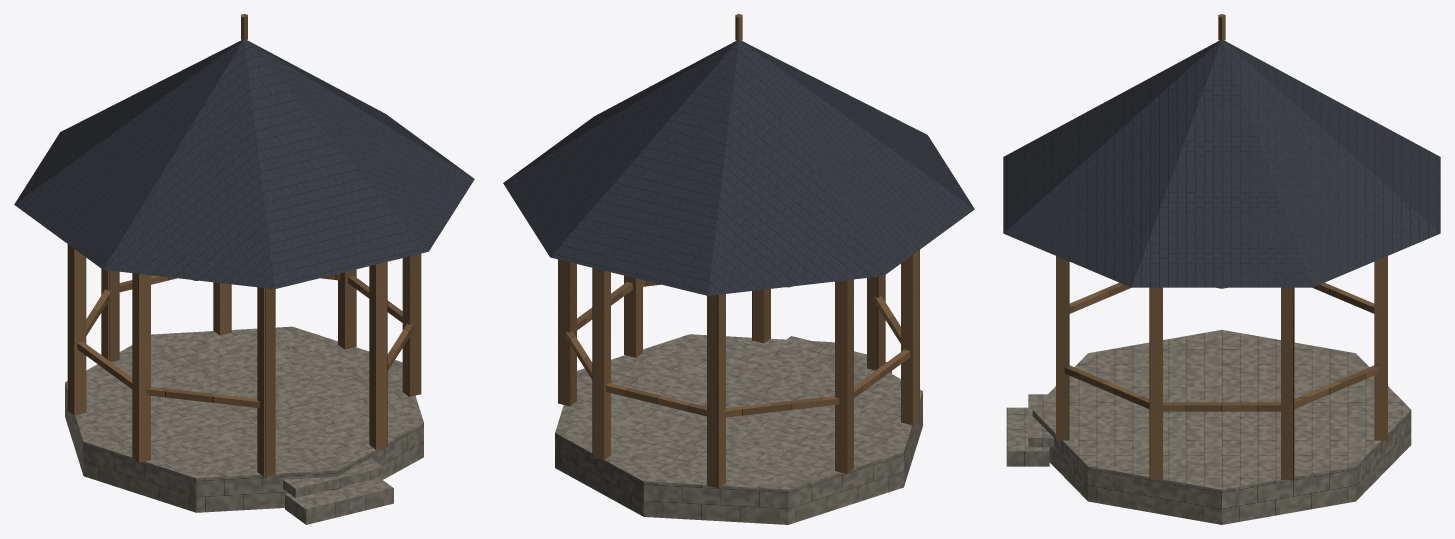
The model's file is bld_gazebo_a_LOD1.glb.
3 views of the same model, side by side, from view 1: azimuth 30°, elevation 25°; view 2: azimuth 150°, elevation 25°; view 3: azimuth 270°, elevation 25° (orthographic). The views are drawn at different scales.
Visible parts, largest first — view 1: bld_gazebo_a_slate_roof, bld_gazebo_a_stone, bld_gazebo_a_wood; view 2: bld_gazebo_a_slate_roof, bld_gazebo_a_stone, bld_gazebo_a_wood; view 3: bld_gazebo_a_slate_roof, bld_gazebo_a_stone, bld_gazebo_a_wood.
Part boxes in pixels (bbox=[...]): bld_gazebo_a_slate_roof: bbox=[14, 40, 474, 289]; bld_gazebo_a_stone: bbox=[65, 326, 423, 524]; bld_gazebo_a_wood: bbox=[67, 14, 421, 476]; bld_gazebo_a_slate_roof: bbox=[503, 40, 974, 295]; bld_gazebo_a_stone: bbox=[555, 334, 922, 524]; bld_gazebo_a_wood: bbox=[558, 14, 919, 488]; bld_gazebo_a_slate_roof: bbox=[1003, 40, 1440, 287]; bld_gazebo_a_stone: bbox=[1006, 330, 1411, 524]; bld_gazebo_a_wood: bbox=[1056, 14, 1387, 479].
Bounding box in the file's own units: 5.08 × 5.5 × 5.08.
Materials: 3 (3 with a texture image).
